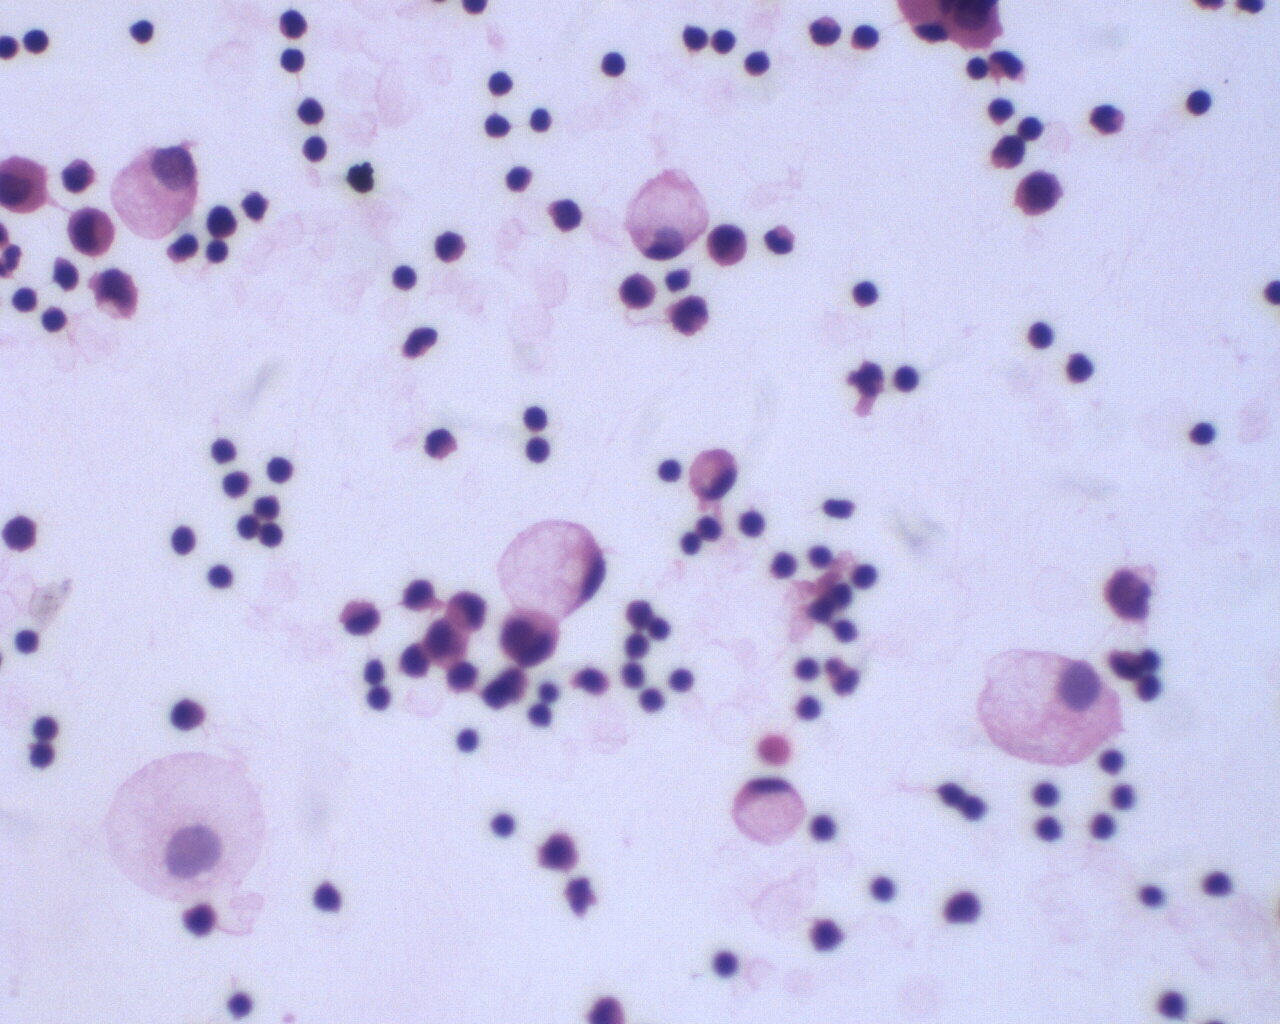ab: (497, 610, 563, 672), (1008, 165, 1068, 219)
histo: (979, 639, 1127, 774), (497, 517, 606, 621), (112, 137, 205, 245), (621, 166, 712, 261), (729, 771, 808, 844)
lymph: (741, 43, 775, 80), (207, 430, 240, 468), (292, 96, 326, 131), (851, 275, 882, 311), (483, 68, 516, 101), (264, 451, 294, 489), (504, 163, 538, 194), (169, 523, 199, 559), (1025, 316, 1053, 351), (391, 260, 421, 293), (598, 48, 627, 82), (130, 17, 159, 47), (655, 456, 678, 492)
neutro: (804, 11, 853, 54), (1084, 100, 1127, 145), (759, 222, 797, 259)
